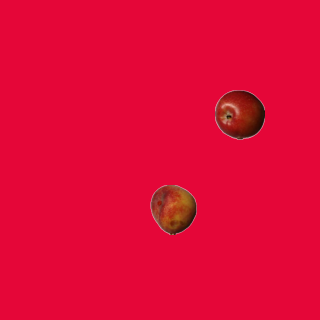Apple Braeburn: (214, 89, 264, 139)
Peach: (148, 184, 198, 234)
